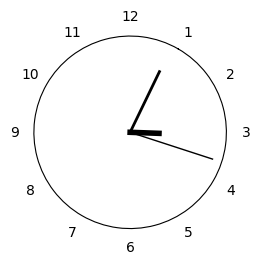12: (123, 10, 139, 22)
circle: (34, 35, 227, 229)
hours: (127, 129, 162, 136)
minutes: (131, 70, 161, 129)
seconds: (136, 135, 213, 160)
